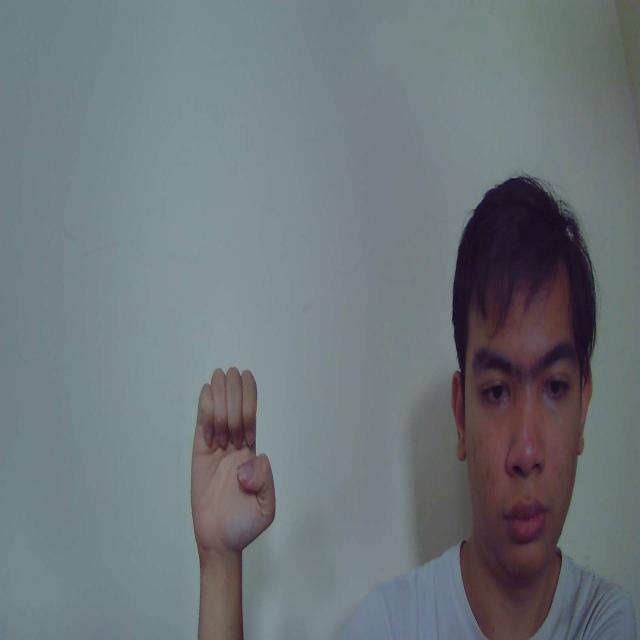E: (192, 367, 277, 552)
